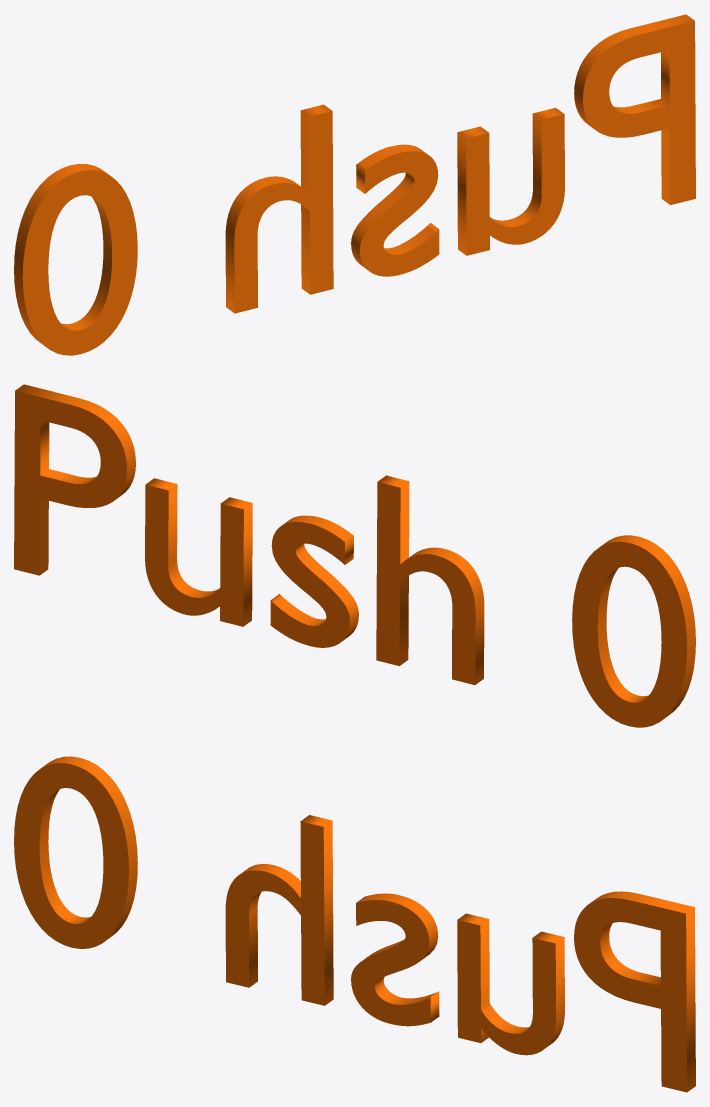
Rendered from push_0.obj.
The picture shows the model from 3 angles, top to bottom: view 1: azimuth 30°, elevation 25°; view 2: azimuth 150°, elevation 25°; view 3: azimuth 330°, elevation 25°; orthographic projection.
Visible parts, largest first — view 1: テキスト.003; view 2: テキスト.003; view 3: テキスト.003.
Part boxes in pixels (x1,y1,x2,y2): テキスト.003: [14, 14, 695, 355]; テキスト.003: [14, 384, 695, 727]; テキスト.003: [14, 756, 695, 1092].
Size of the model in its own units: 6.18 by 1.62 by 0.155.
